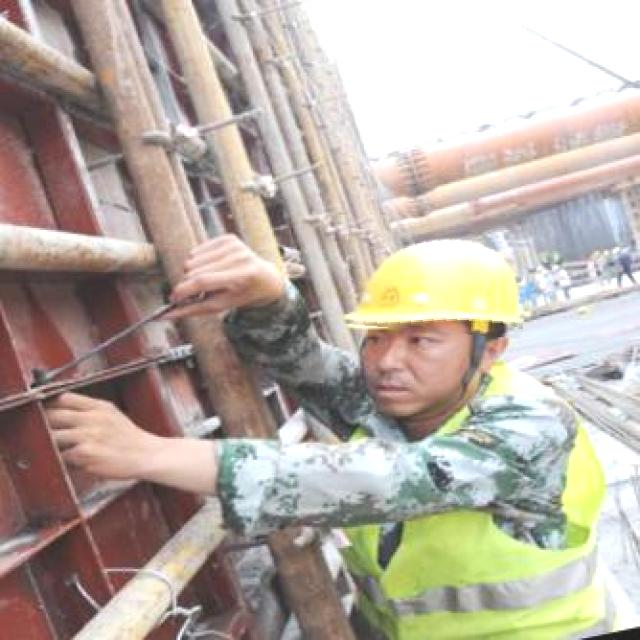helmet: (343, 232, 529, 335)
